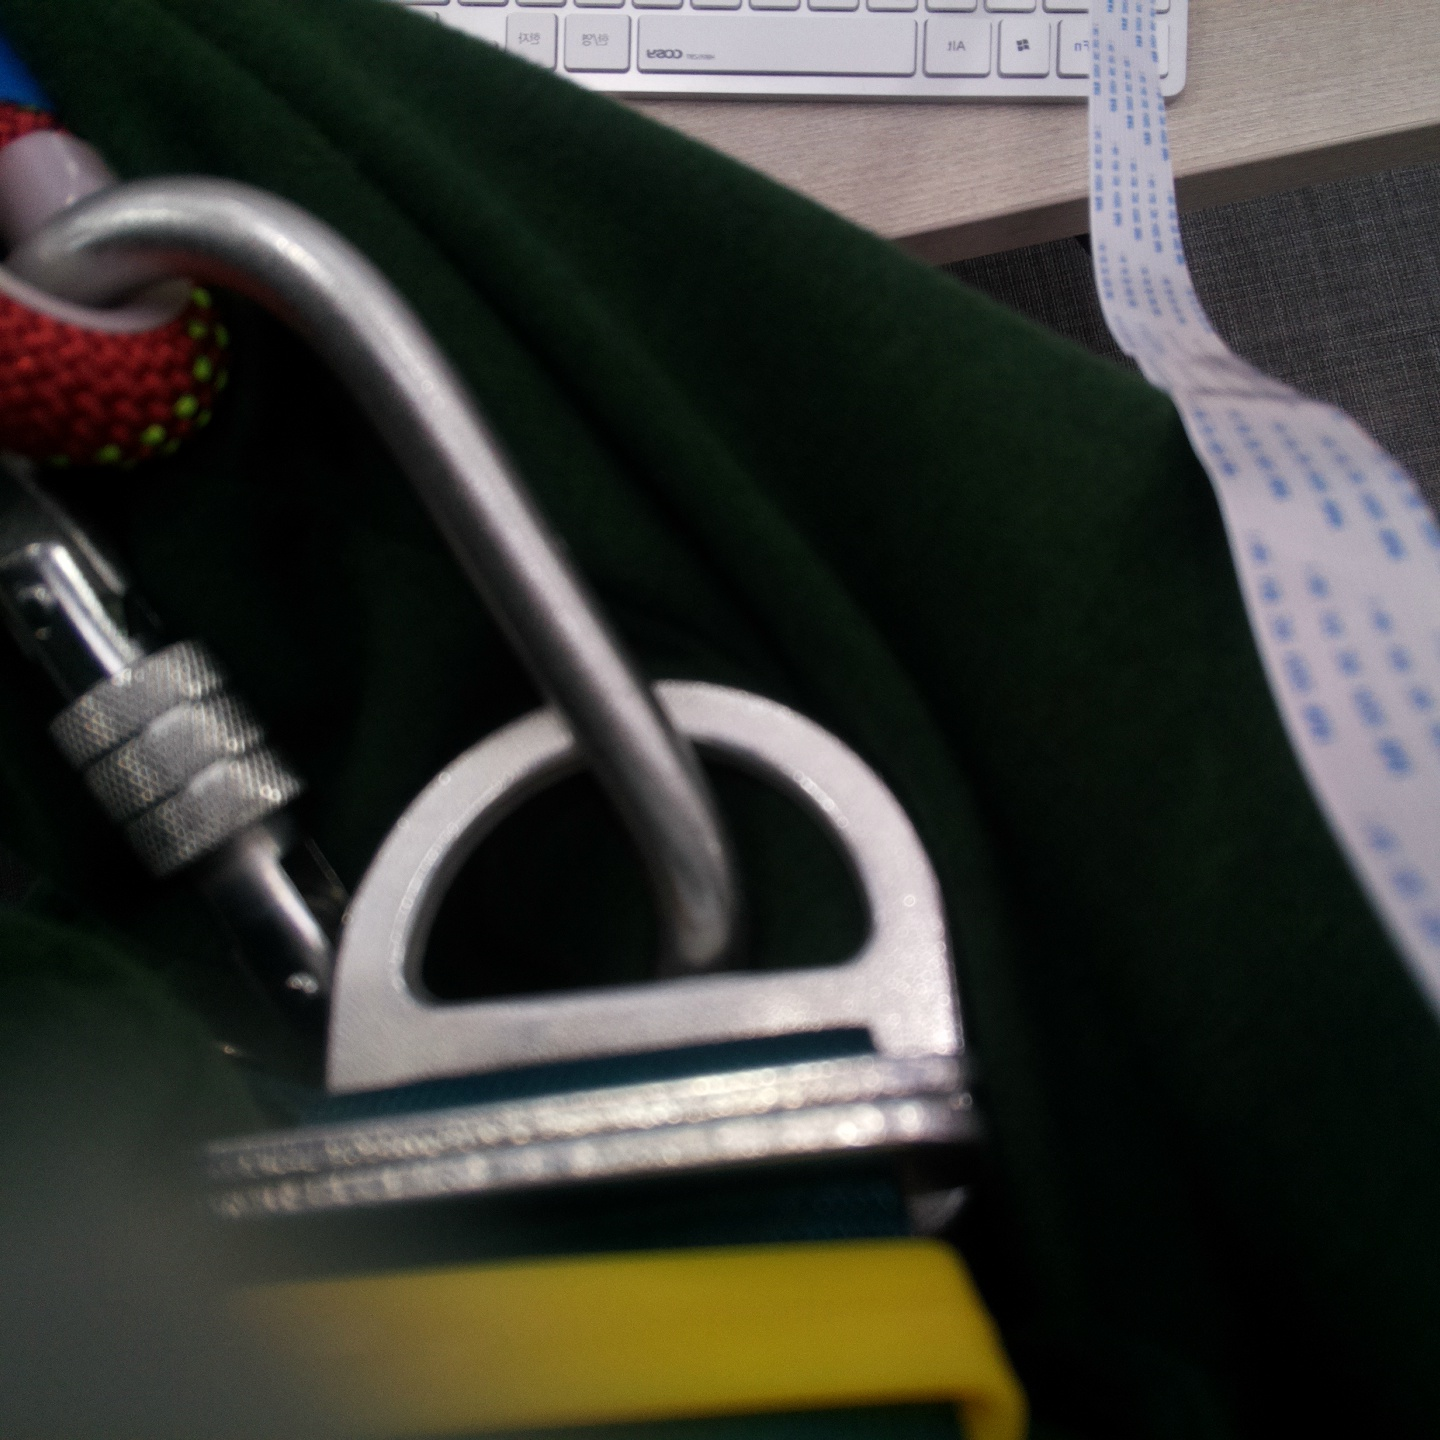SUCCESS: (18, 547, 324, 938)
